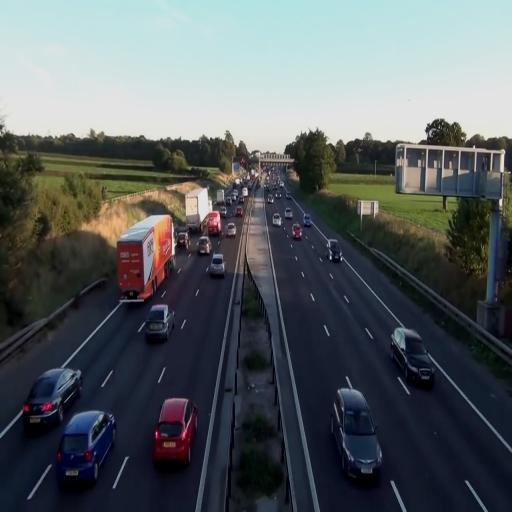vehicle: (116, 213, 174, 304), (331, 386, 382, 481), (54, 410, 116, 486), (22, 367, 82, 429), (152, 397, 198, 468), (389, 326, 435, 388), (142, 303, 174, 343), (203, 211, 221, 238), (208, 251, 225, 278), (328, 240, 342, 262), (198, 236, 212, 256), (176, 229, 189, 250), (224, 220, 236, 237), (291, 224, 302, 240), (272, 213, 282, 226), (303, 216, 313, 229)
